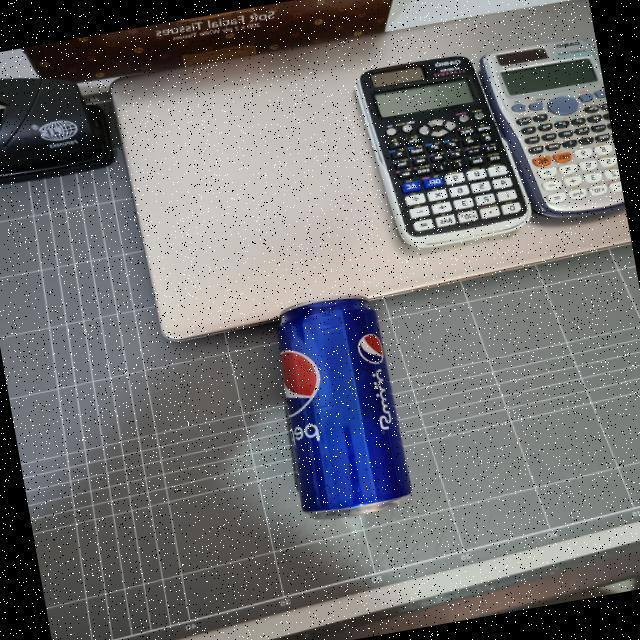can: (261, 288, 418, 525)
